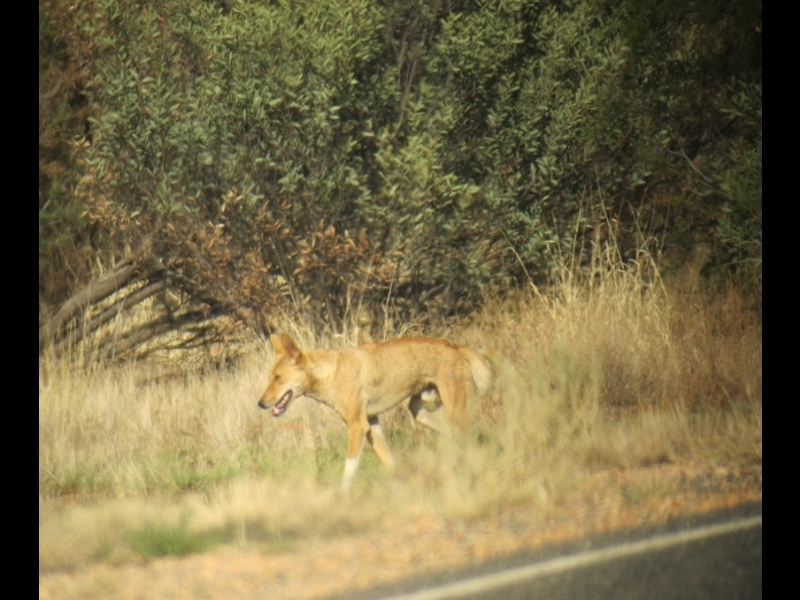dog: (248, 330, 500, 494)
